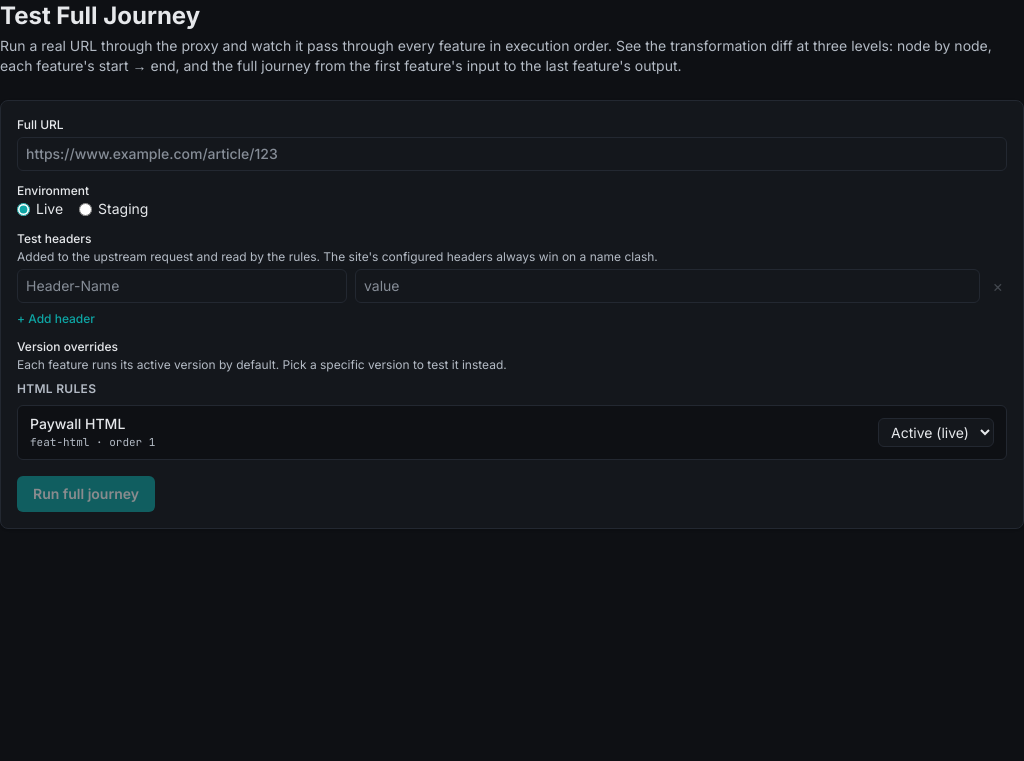
Test: FullJourneyClient › shows the cross-feature empty state when no feature matched
The image size is (1024, 761).
Type "https://x.test/a" into the field labelled "Full URL".
click(512, 154); type("https://x.test/a")  # box 17,137 -> 1007,171
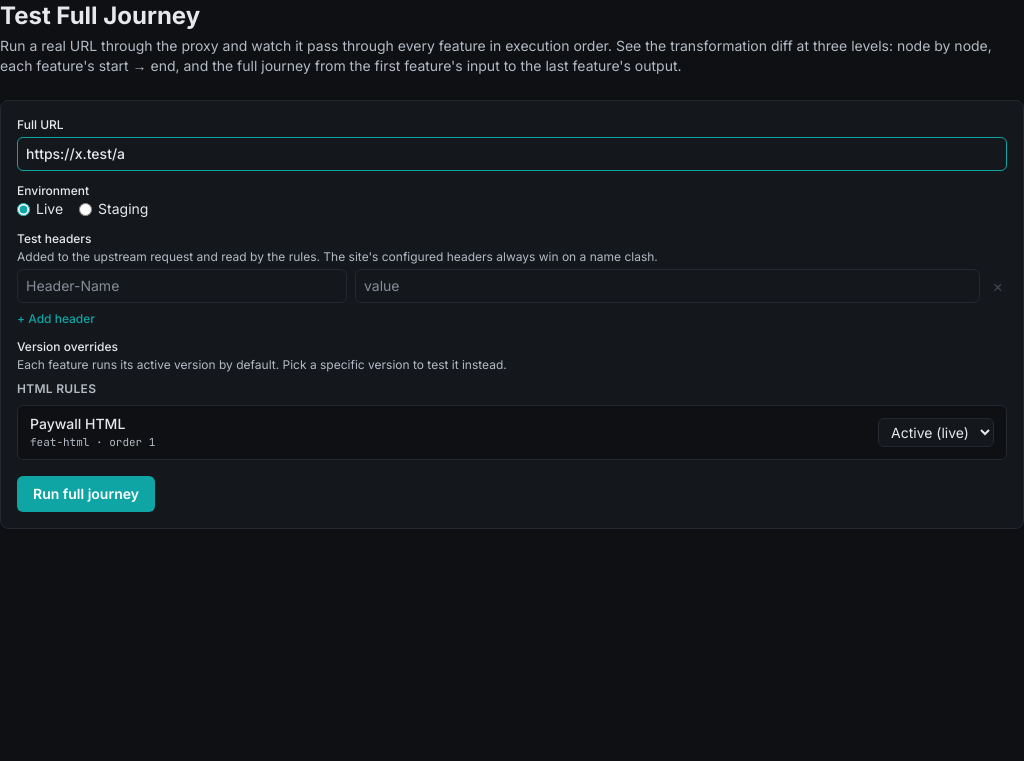
Click the button "Run full journey".
click(86, 494)  # box 17,476 -> 155,512
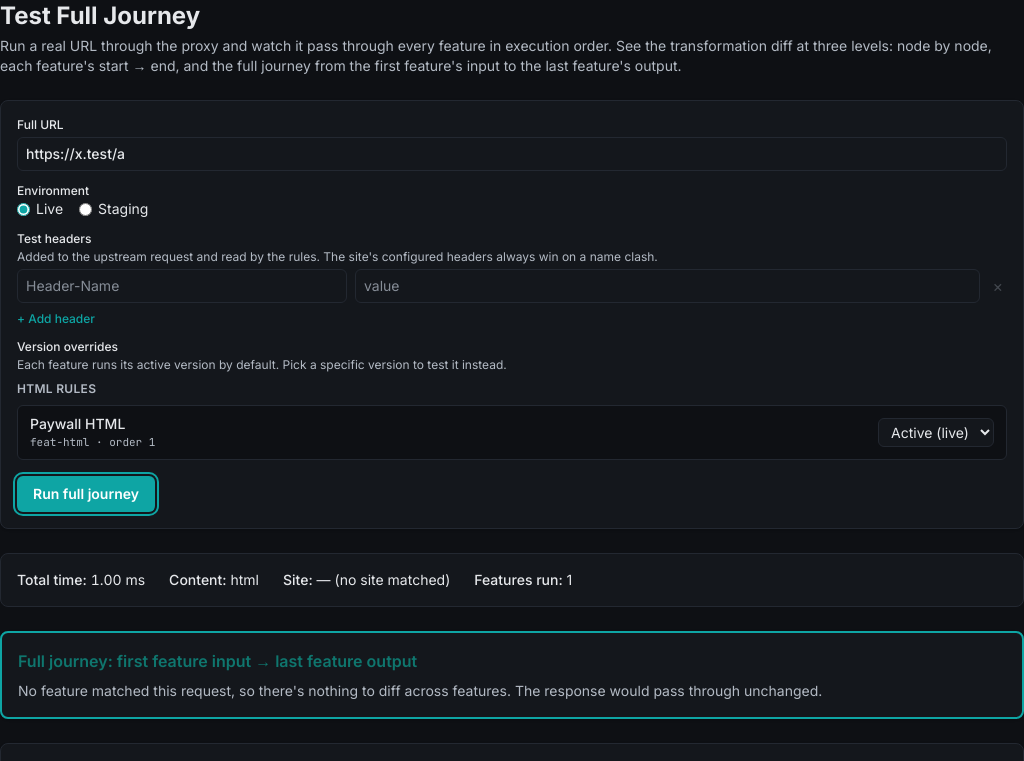
Expected: the text with test id "cross-feature-empty" is shown, 18,682 -> 822,698
